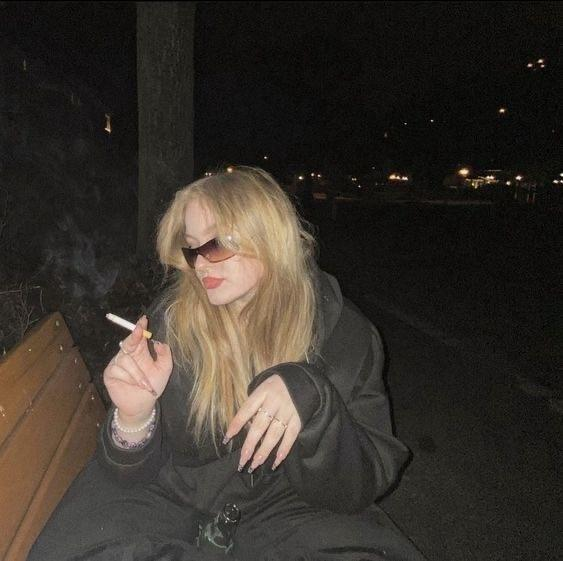cigarette: (106, 313, 152, 339)
